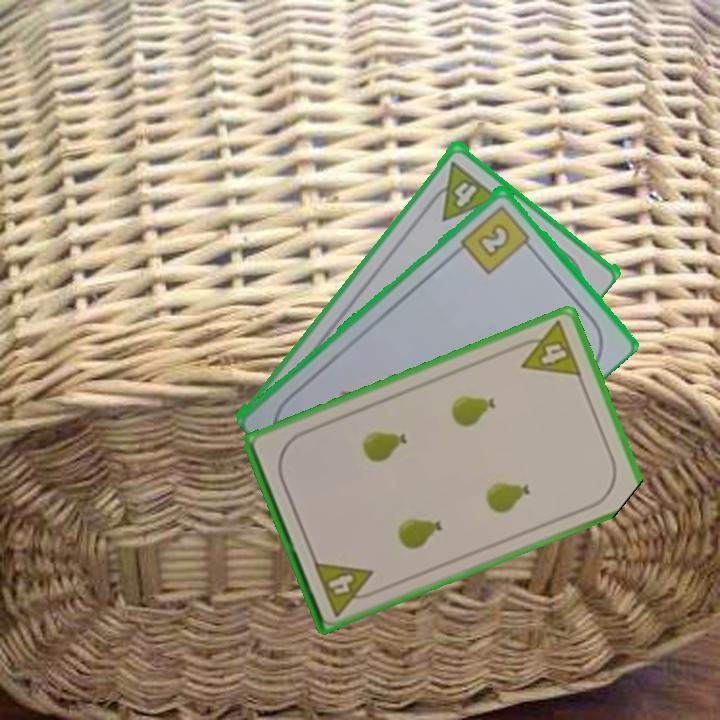2b: (457, 201, 537, 277)
4p: (423, 157, 501, 223), (510, 317, 585, 380), (310, 557, 382, 619)
